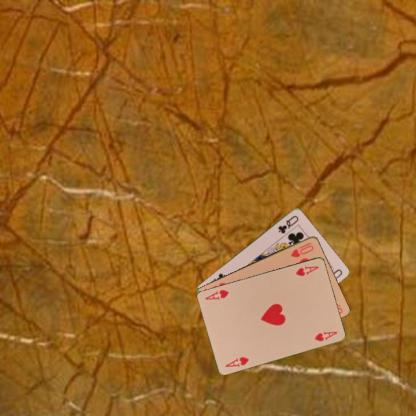10h: (288, 239, 315, 258)
Ah: (293, 263, 320, 277), (223, 354, 250, 368)
Qc: (275, 212, 300, 235)
